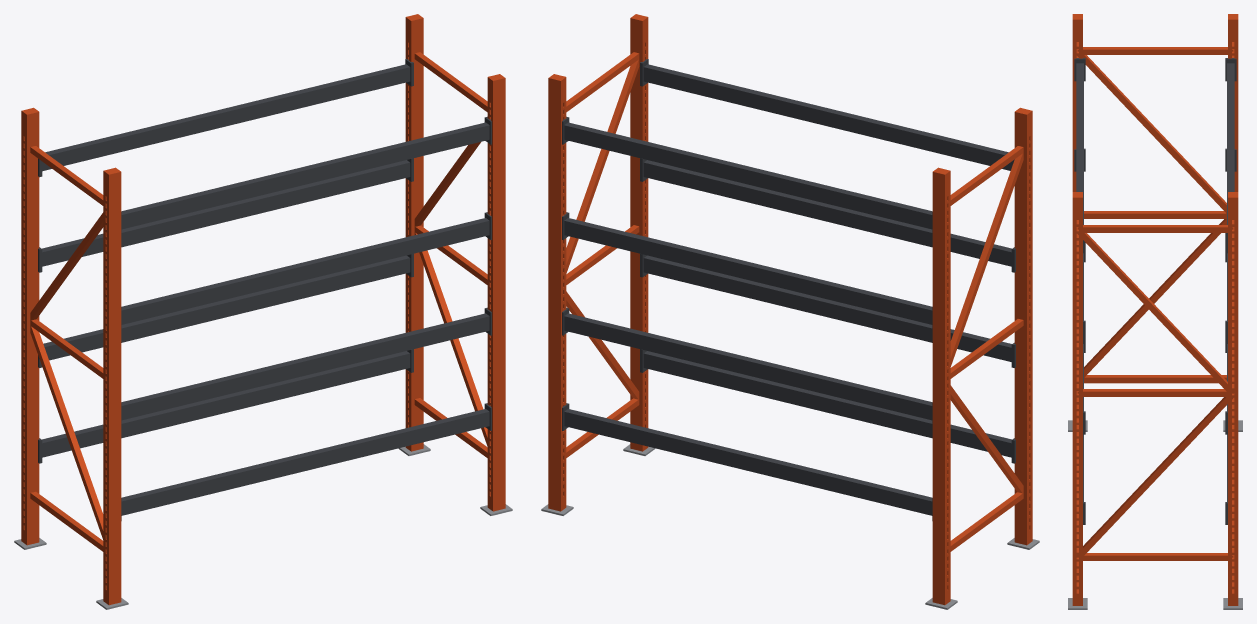
File: case-racking-3d.glb
3 renders of one model, left to right at view 1: azimuth 30°, elevation 25°; view 2: azimuth 150°, elevation 25°; view 3: azimuth 270°, elevation 25°, orthographic. The views are drawn at different scales.
Visible parts, largest first — view 1: beams, uprights, feet; view 2: beams, uprights, feet; view 3: uprights, beams, feet.
Boxes of the visible parts, x1,y1,x2,y2 form: beams: (38, 59, 491, 520); uprights: (21, 14, 505, 605); feet: (14, 444, 512, 609); beams: (562, 59, 1015, 520); uprights: (548, 14, 1032, 605); feet: (541, 444, 1039, 609); uprights: (1072, 14, 1238, 605); beams: (1074, 58, 1236, 524); feet: (1068, 420, 1242, 609).
Size of the model in its own units: 2.95 by 3 by 1.16.
